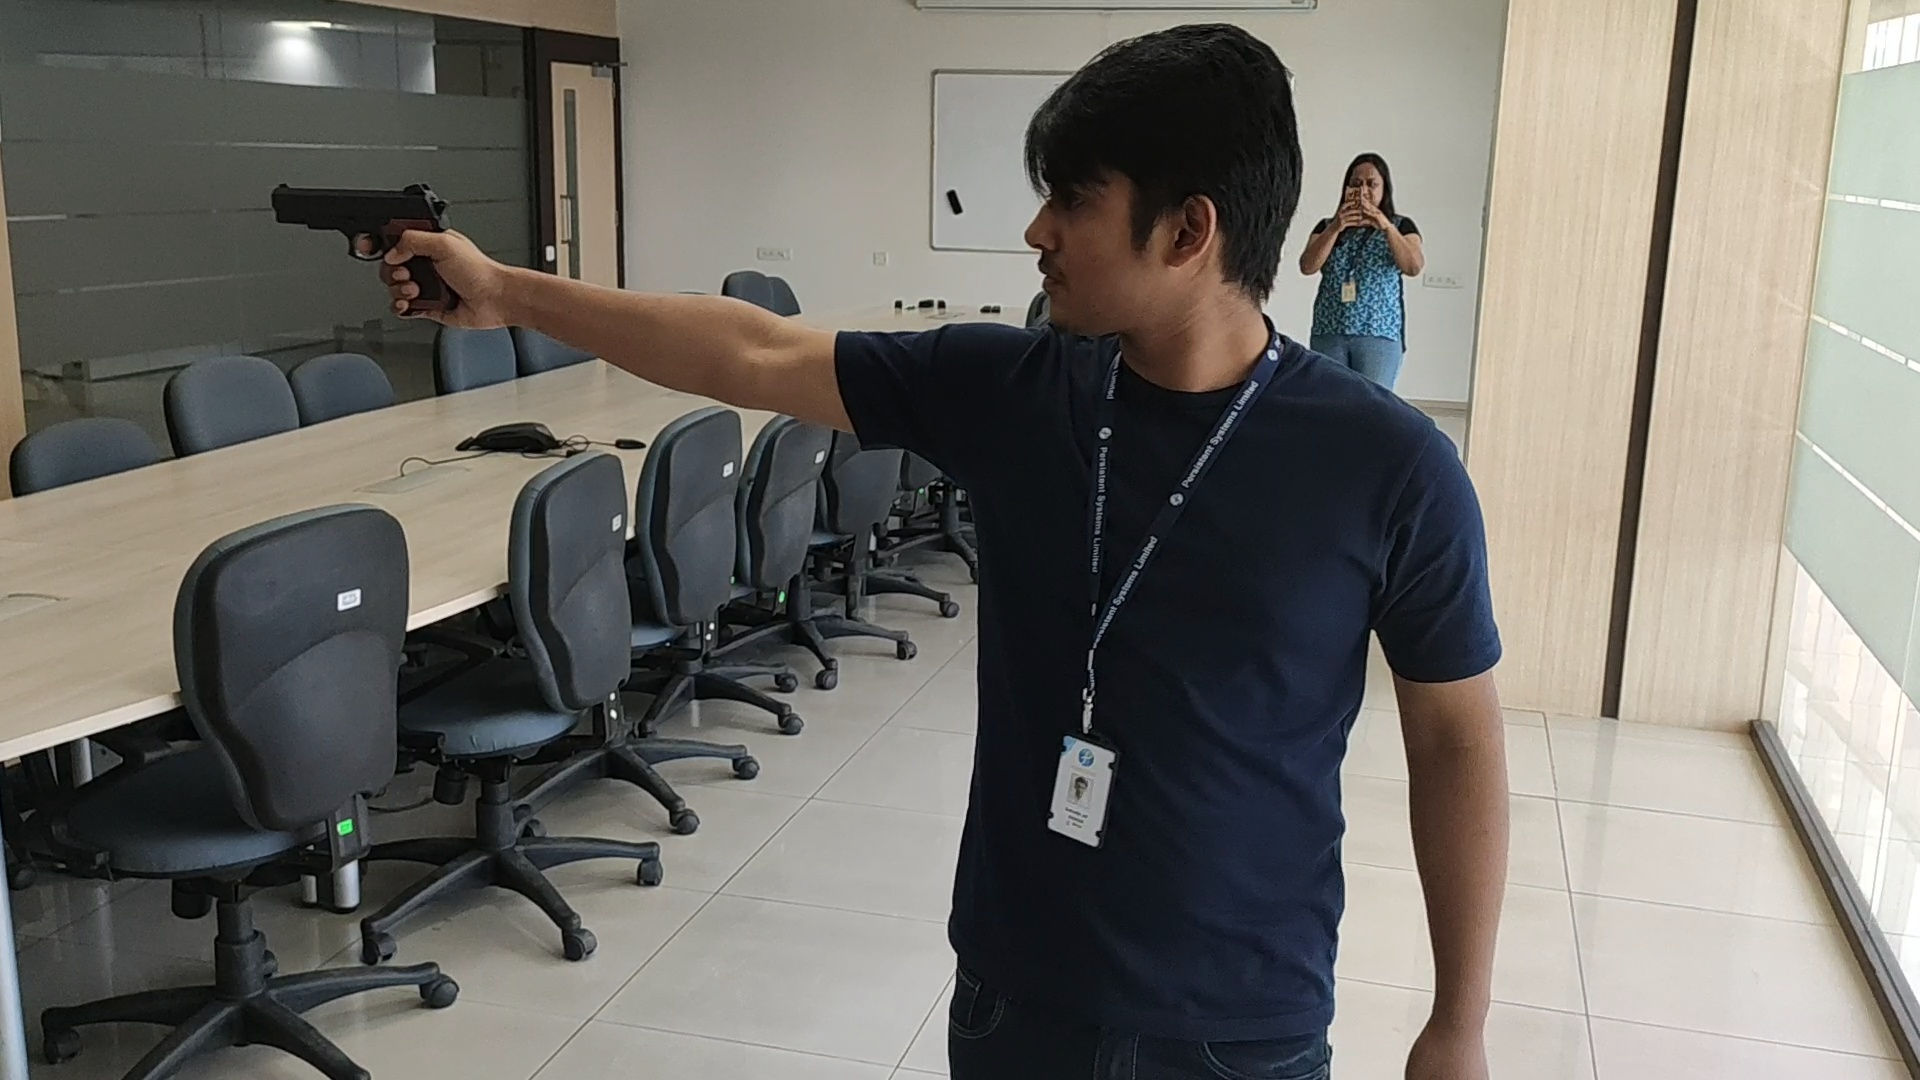gun: (266, 179, 448, 243)
